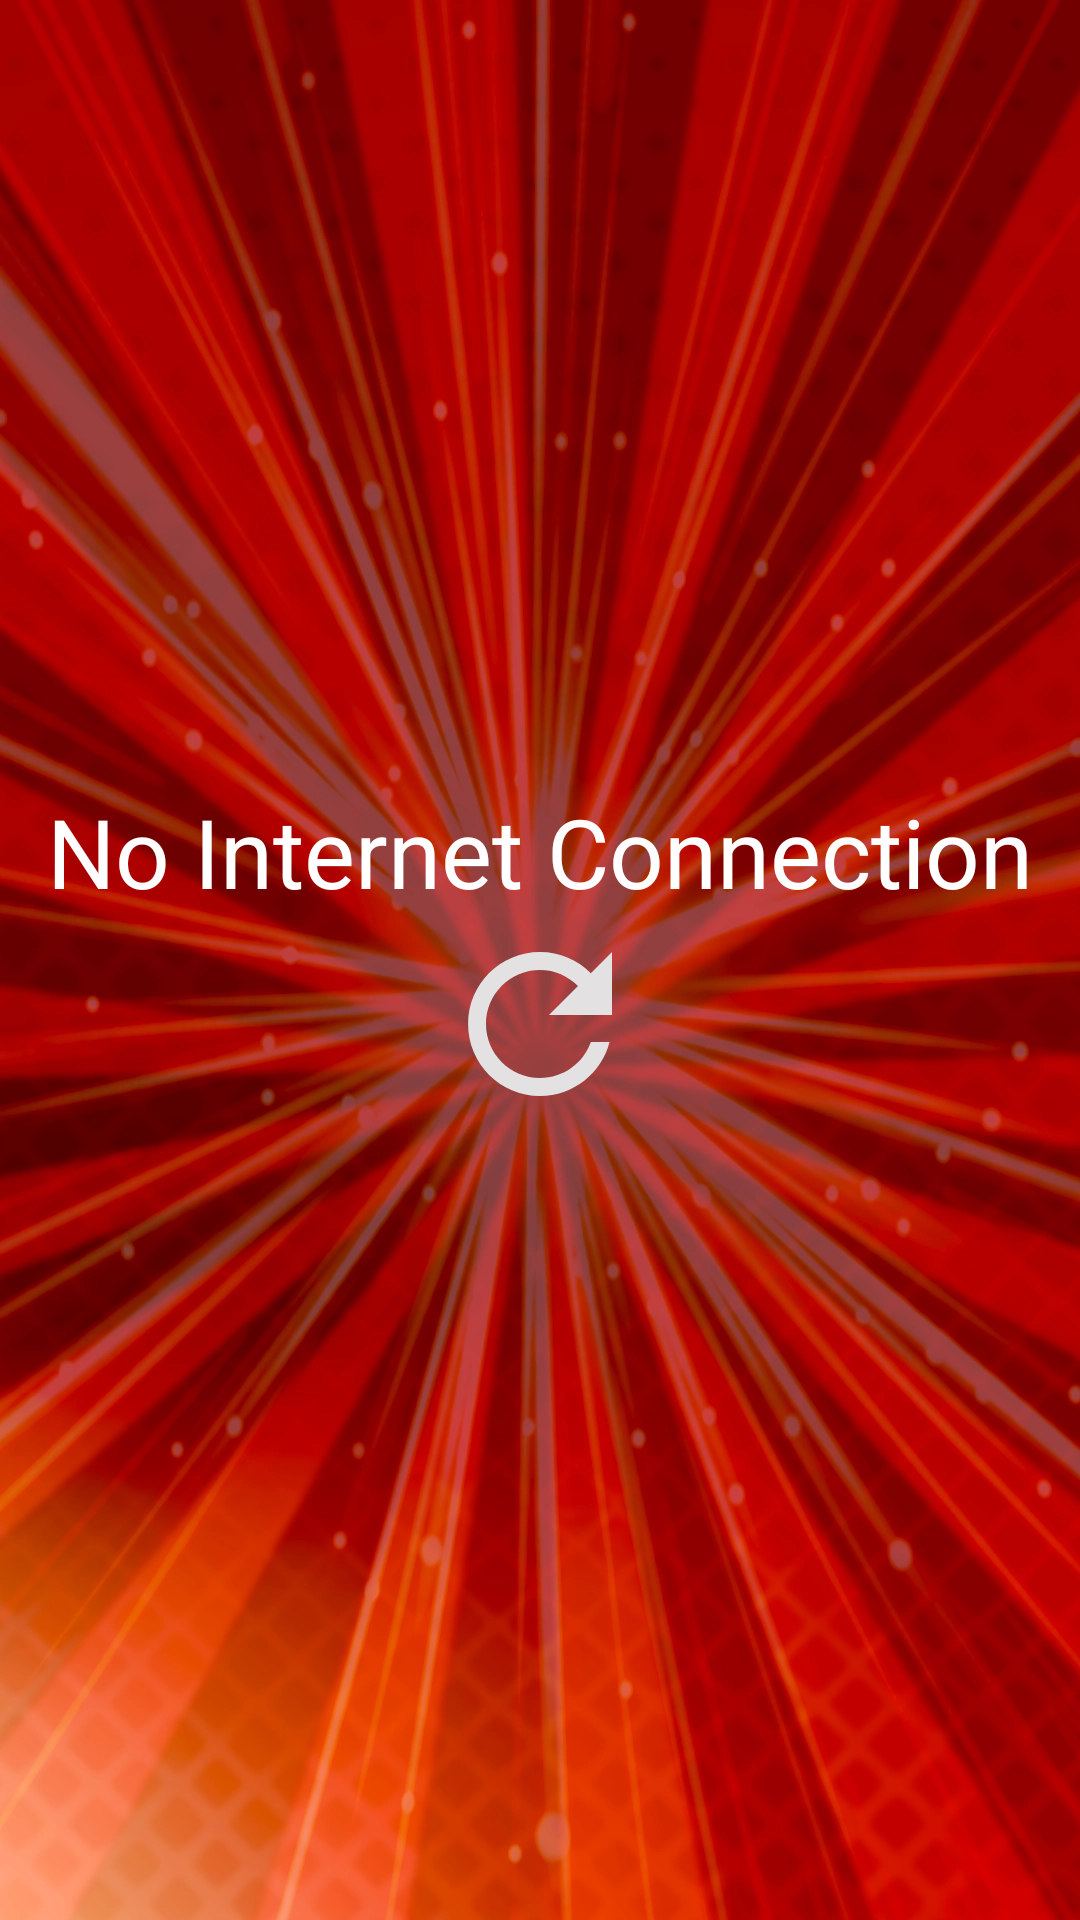

Point at icon controls on the screen. Image size 1080*1920, points as point (x, y).
refresh: point (540, 1024)
